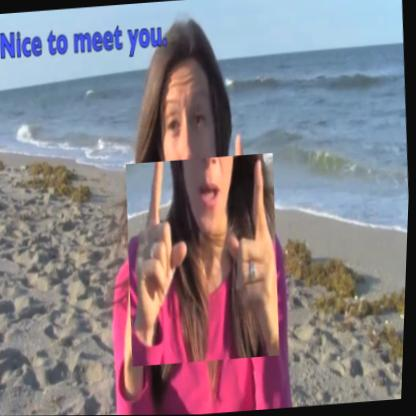NiceToMeetYou: (121, 154, 288, 367)
